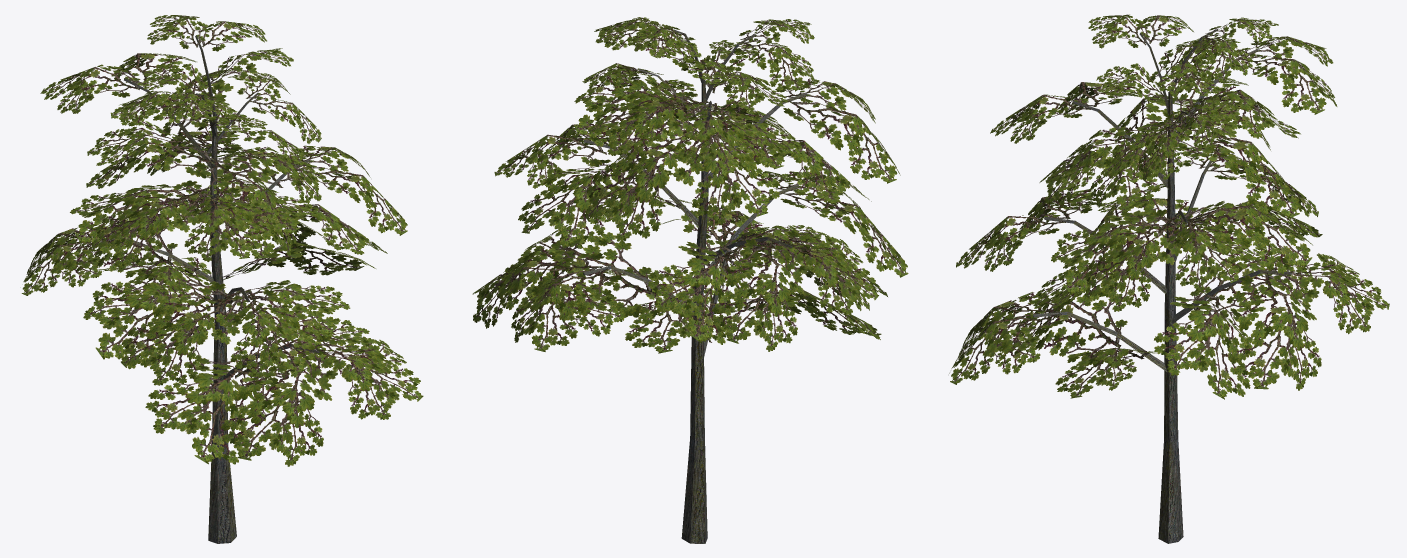
File: maple_b.glb
The picture shows the model from 3 angles, left to right: view 1: azimuth 30°, elevation 25°; view 2: azimuth 150°, elevation 25°; view 3: azimuth 270°, elevation 25°; orthographic projection. The views are drawn at different scales.
Visible parts, largest first — view 1: maple_b; view 2: maple_b; view 3: maple_b.
Part boxes in pixels (x1,y1,x2,y2): maple_b: (21,15,423,543); maple_b: (472,17,908,543); maple_b: (949,14,1389,543).
Size of the model in its own units: 14.9 by 20.24 by 16.01.
Materials: 1 (1 with a texture image).
